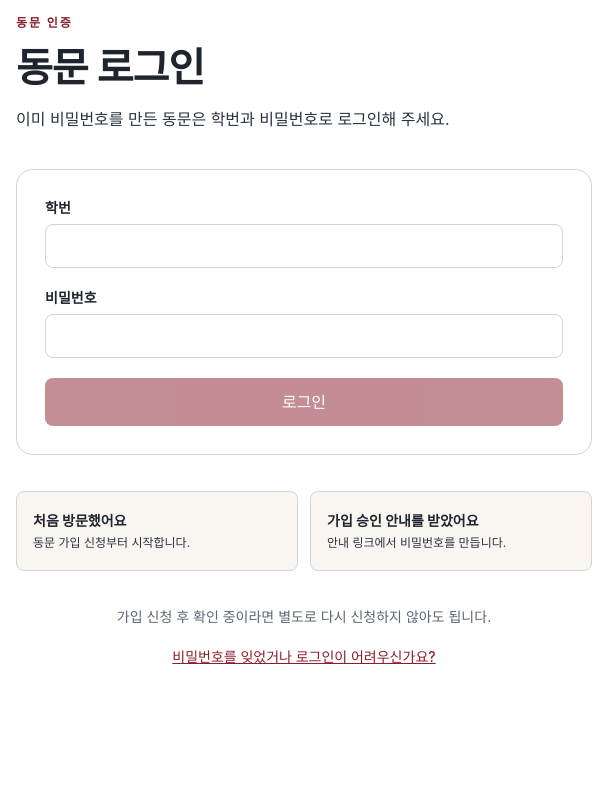
LoginPage › 승인 대기 계정은 구체적인 안내 메시지를 표시한다
Type "20260001" into the field labelled "학번" at (304,246), box [45,224,563,268]
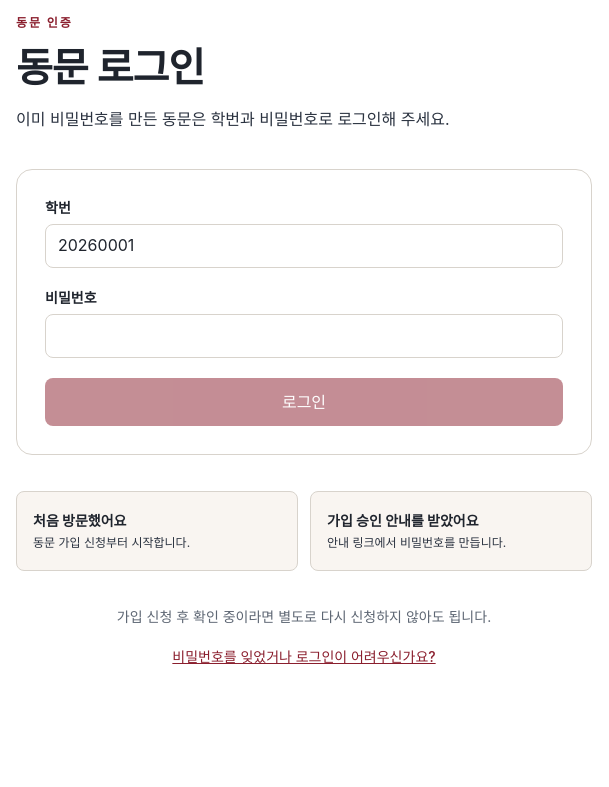
Type "pw" into the password field labelled "비밀번호" at (304,336), box [45,314,563,358]
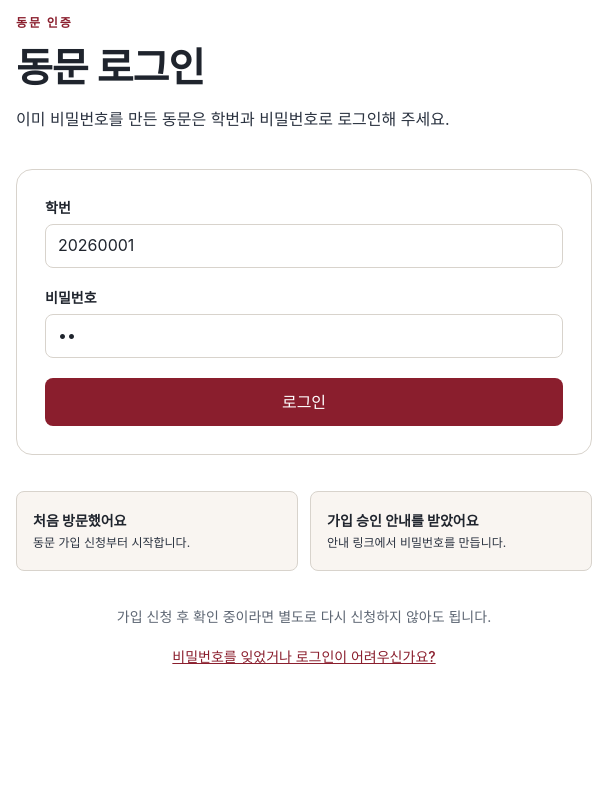
Click the button "로그인" at (304,402), box [45,378,563,426]
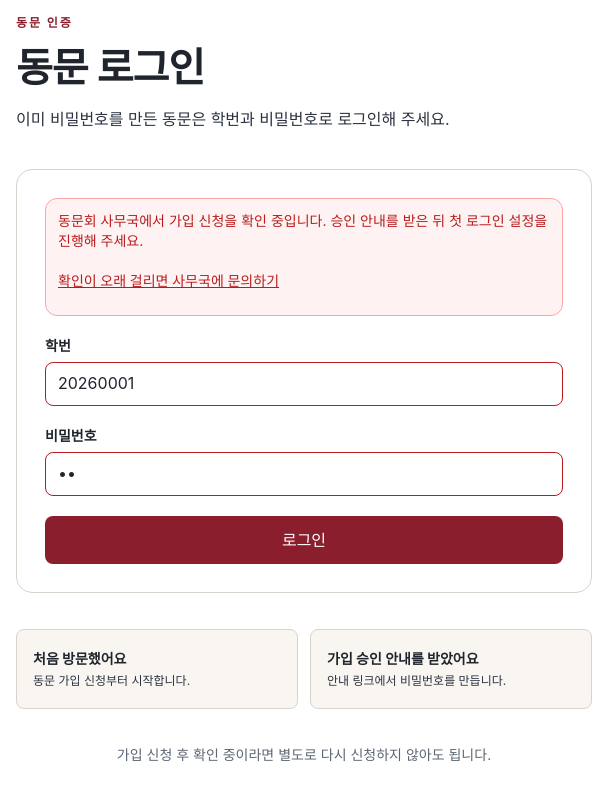
expect the message shows "동문회 사무국에서 가입 신청을 확인 중입니다.": met, box [58,212,547,249]
